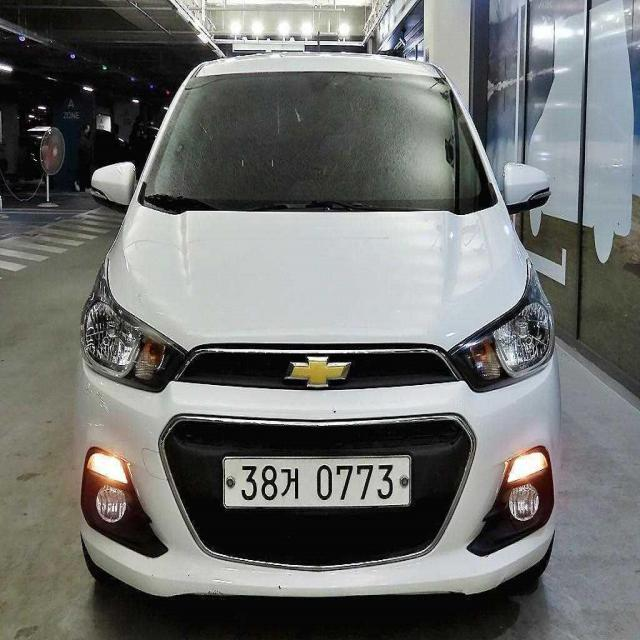car: (54, 35, 576, 628)
illegal_plate: (222, 449, 418, 523)
